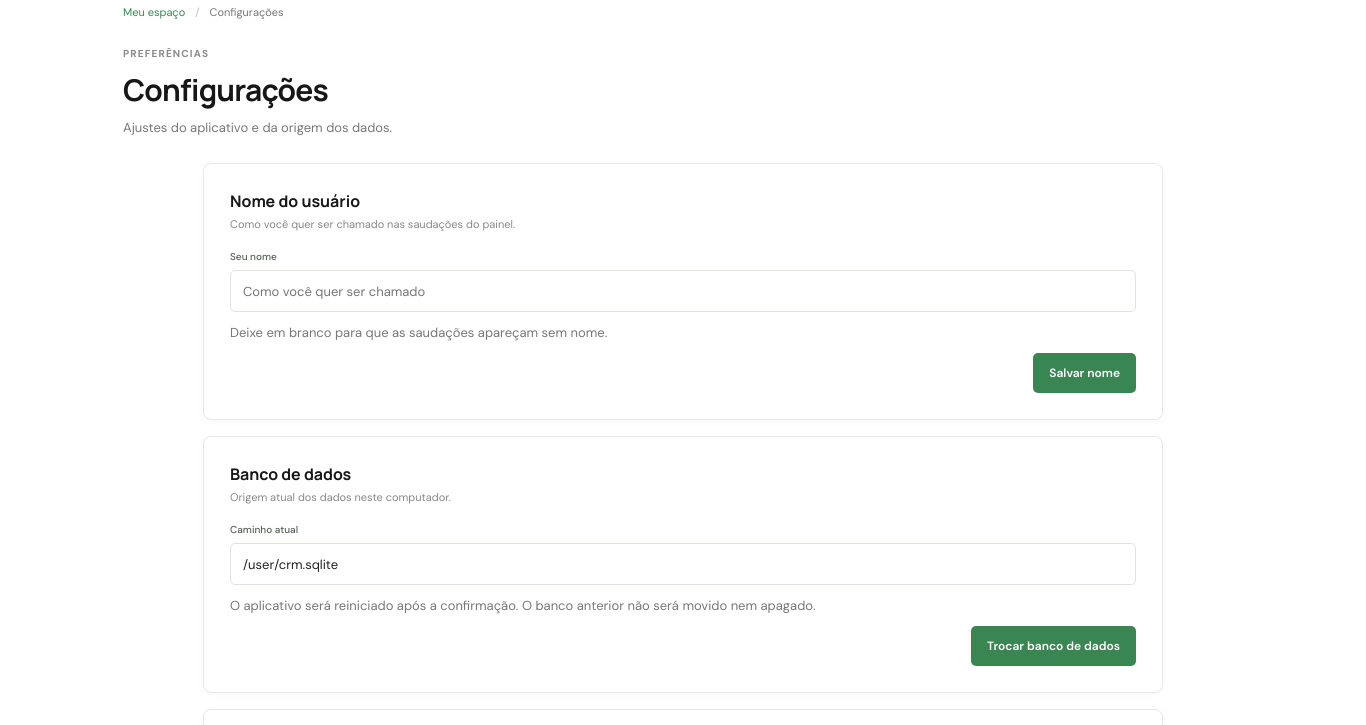
limpa o erro anterior ao tentar trocar novamente
Expected: the field showing "/user/crm.sqlite" is shown, [230, 543, 1136, 585]
Click the button "Trocar banco de dados": (1054, 646) [971, 626, 1136, 666]
(page scrolled)
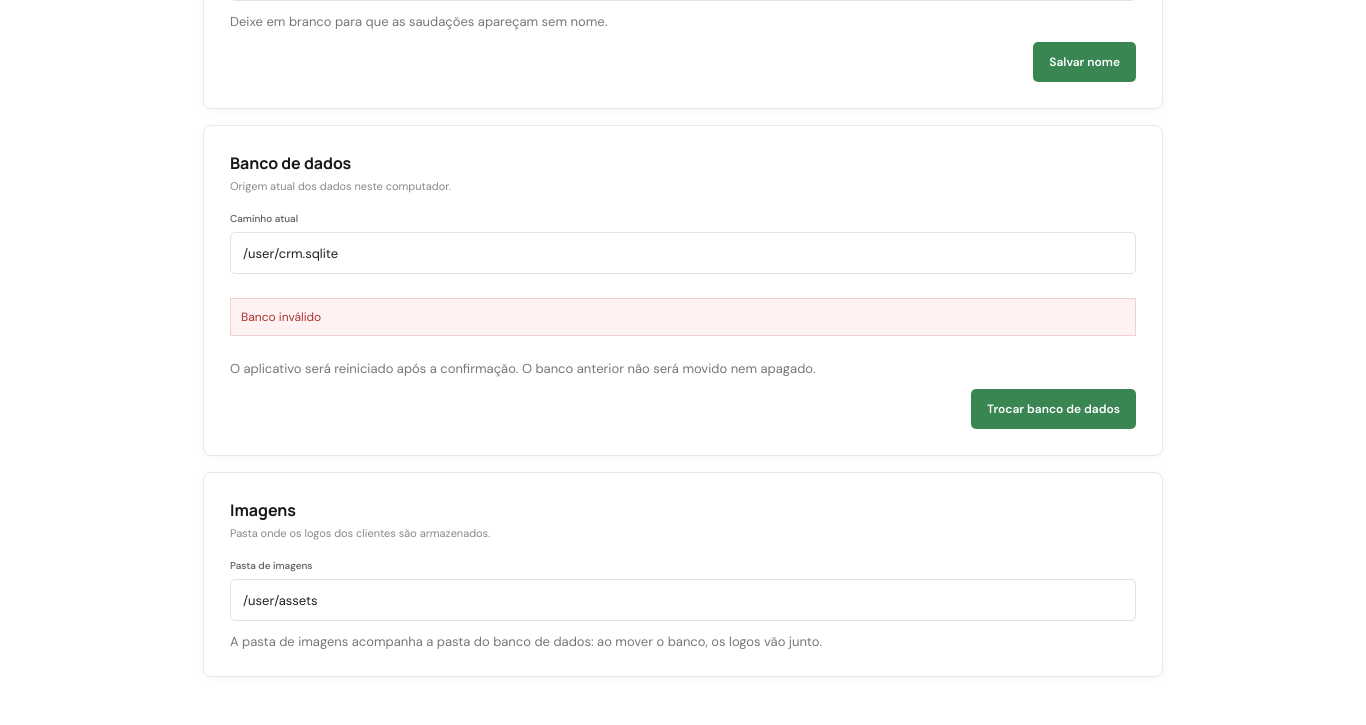
Now the message reads "Banco inválido", box [241, 309, 321, 325]
Click the button "Trocar banco de dados": (1054, 409) [971, 389, 1136, 429]
(page scrolled)
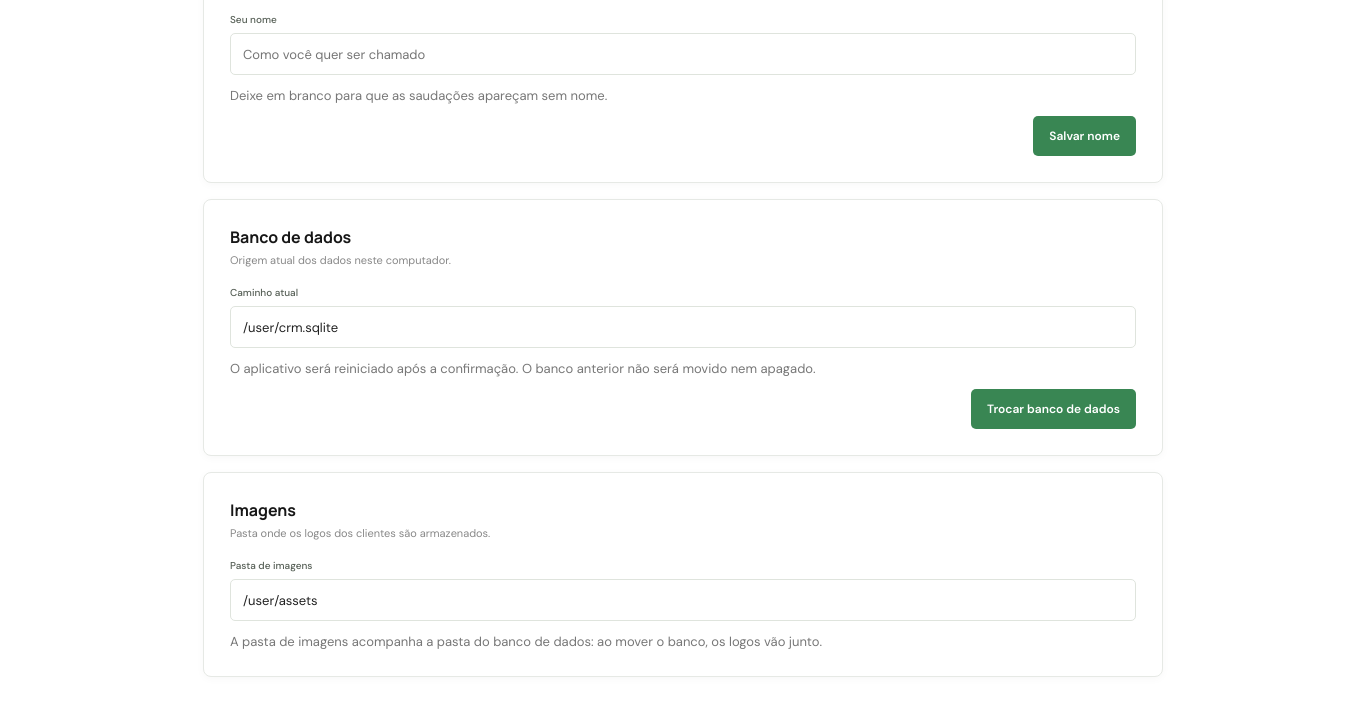
Now the message "Banco inválido" is gone
